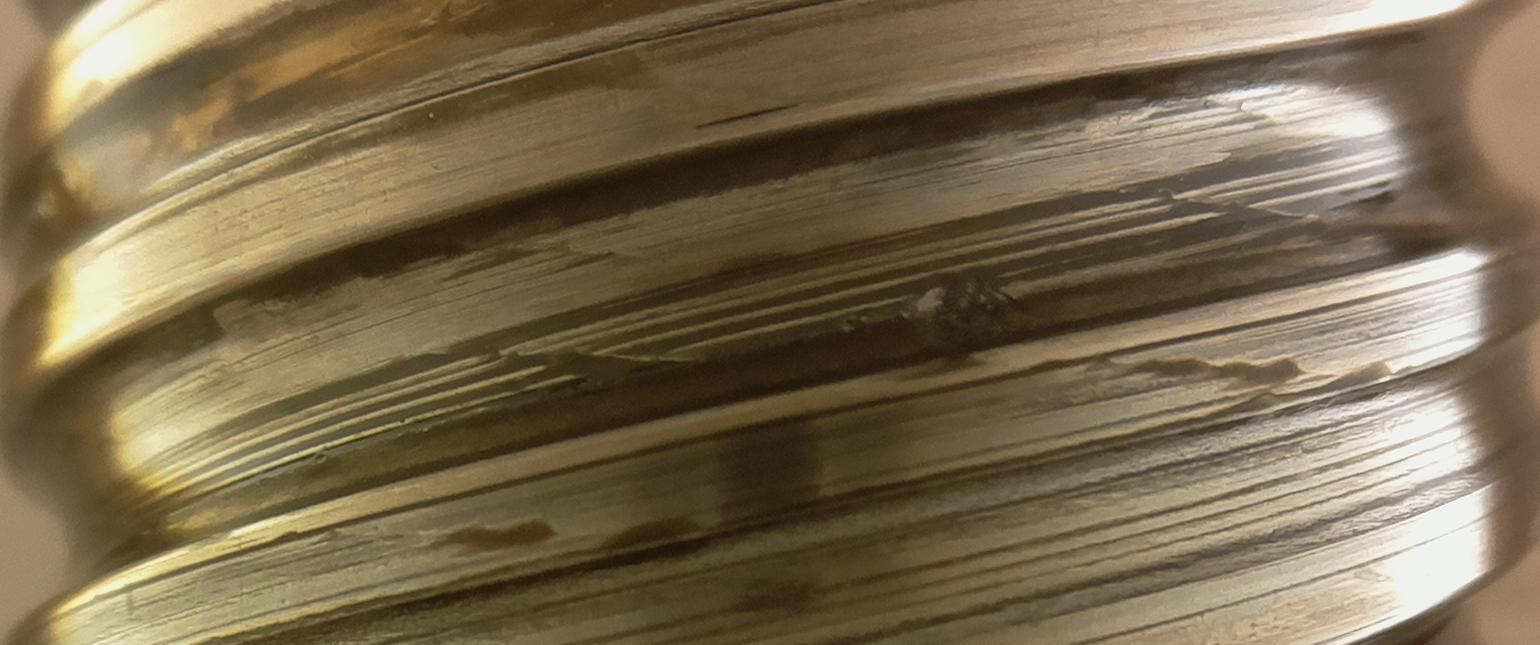pitting: (895, 278, 1024, 354)
